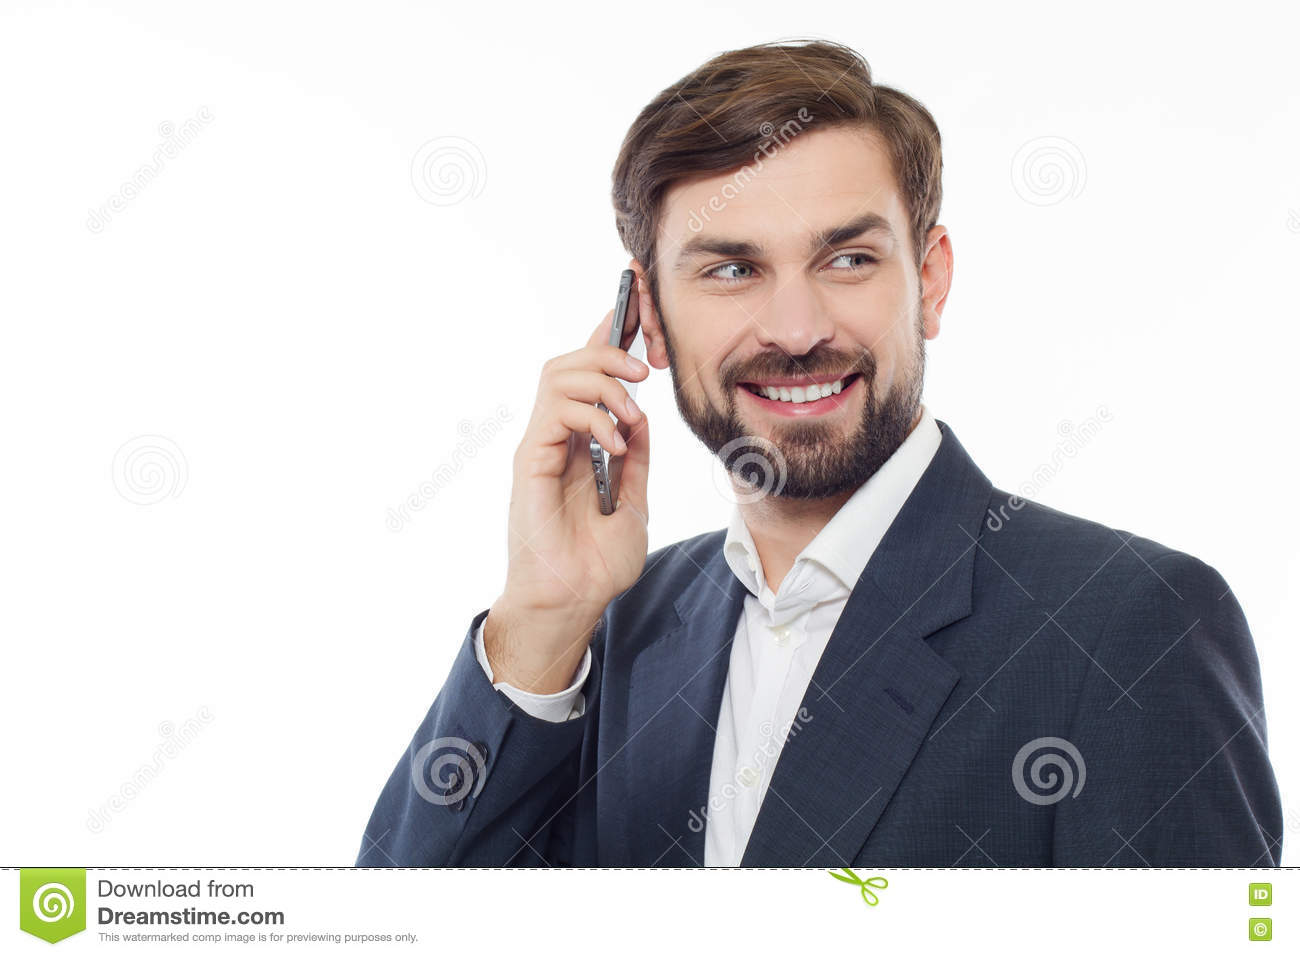phone: (590, 262, 643, 517)
talk: (506, 198, 906, 612)
